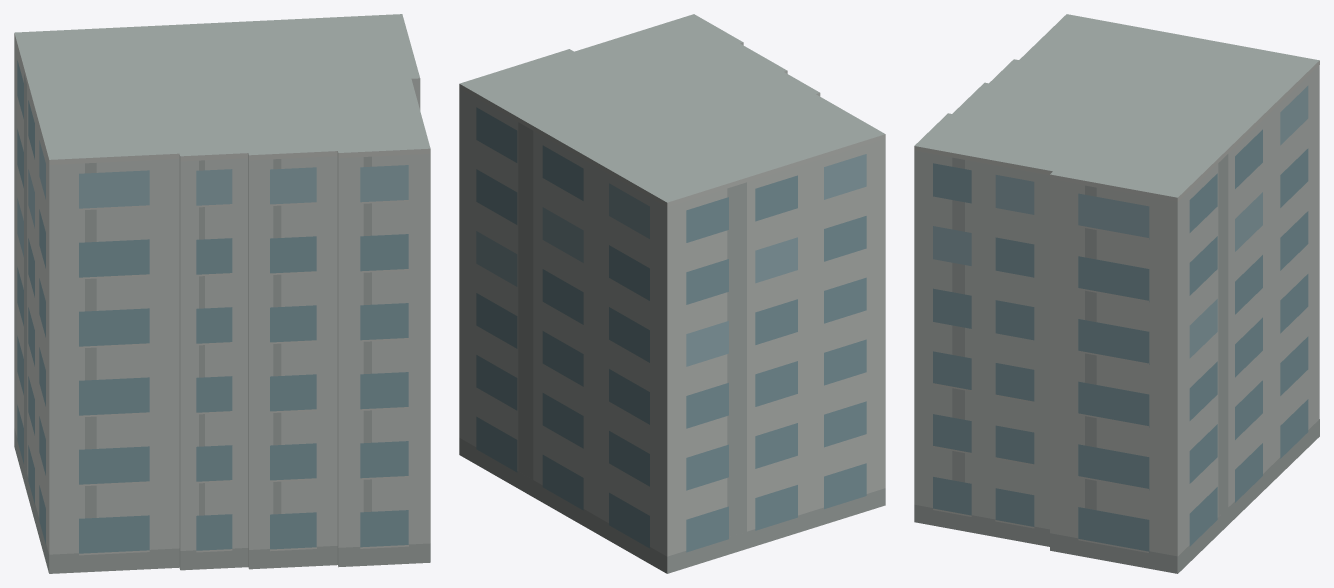
Rendered from survey-upis-32979486.glb.
The picture shows the model from 3 angles, left to right: view 1: azimuth 30°, elevation 25°; view 2: azimuth 150°, elevation 25°; view 3: azimuth 270°, elevation 25°; orthographic projection. The views are drawn at different scales.
Visible parts, largest first — view 1: survey-upis-32979486.tmp; view 2: survey-upis-32979486.tmp; view 3: survey-upis-32979486.tmp.
Part boxes in pixels (x1,y1,x2,y2): survey-upis-32979486.tmp: (14,14,430,573); survey-upis-32979486.tmp: (459,14,885,573); survey-upis-32979486.tmp: (914,14,1319,573).
Bounding box in the file's own units: 20.43 × 19.5 × 19.06.
